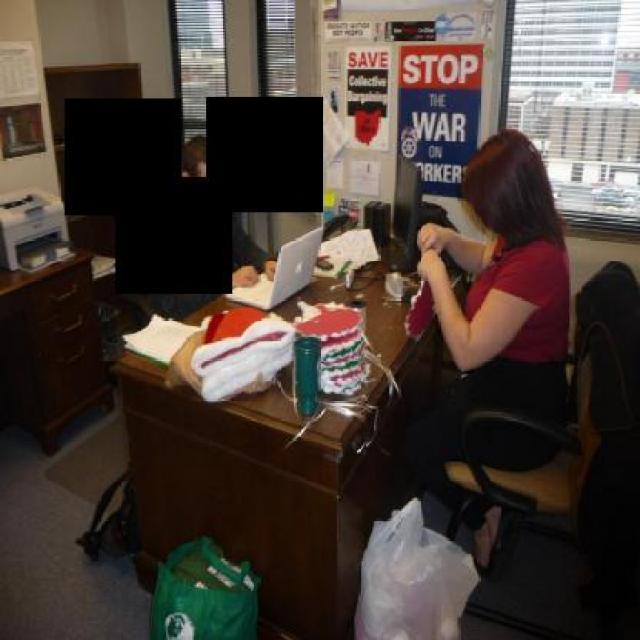plastic bag: (352, 491, 480, 638)
